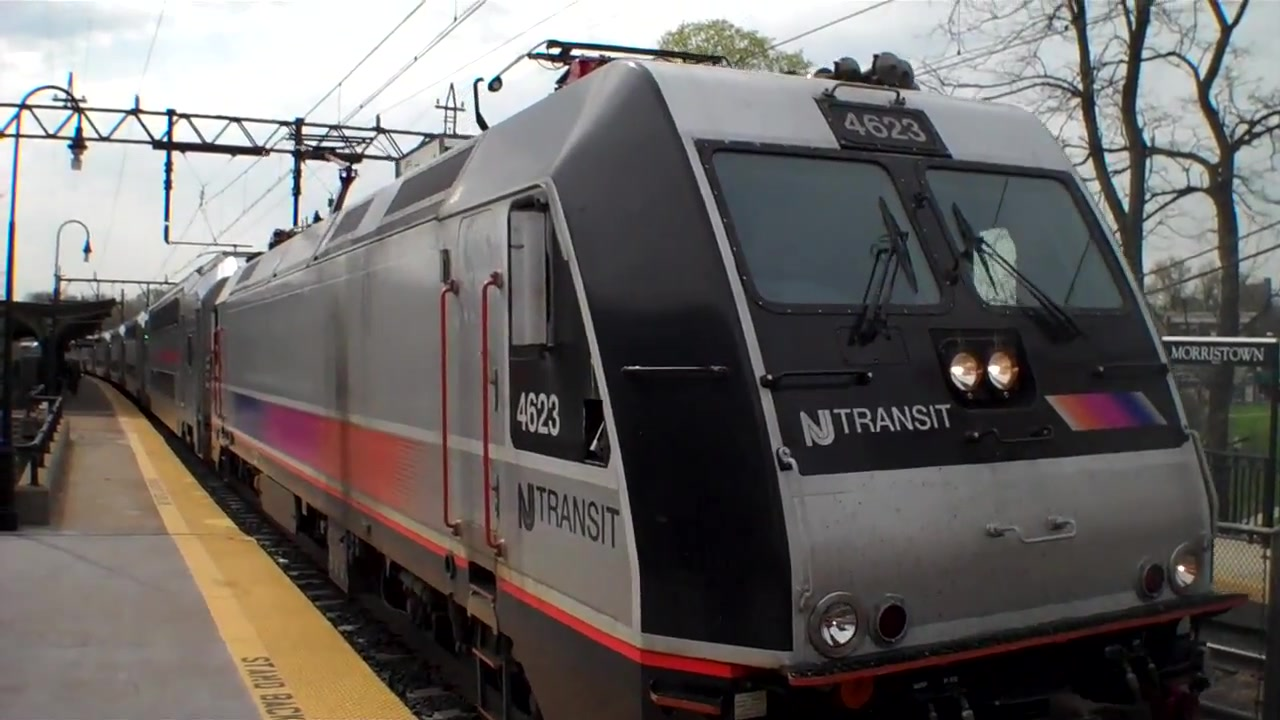train: (62, 52, 1256, 718)
